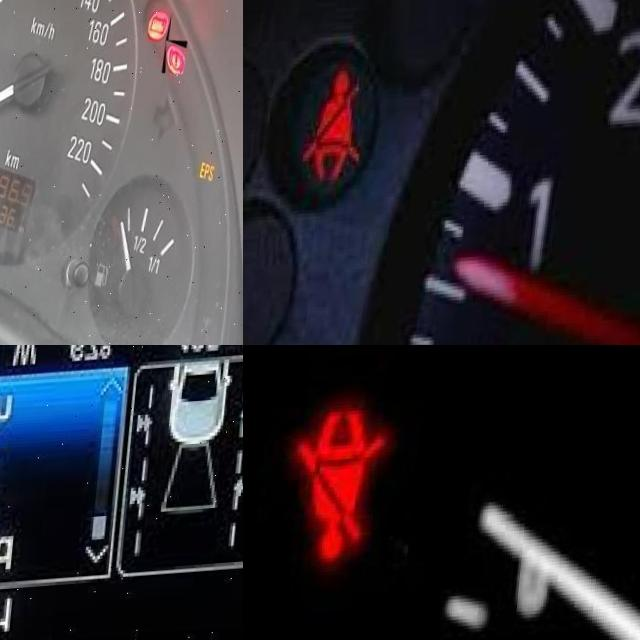Seat Belt: (292, 408, 393, 568), (307, 69, 376, 191)
